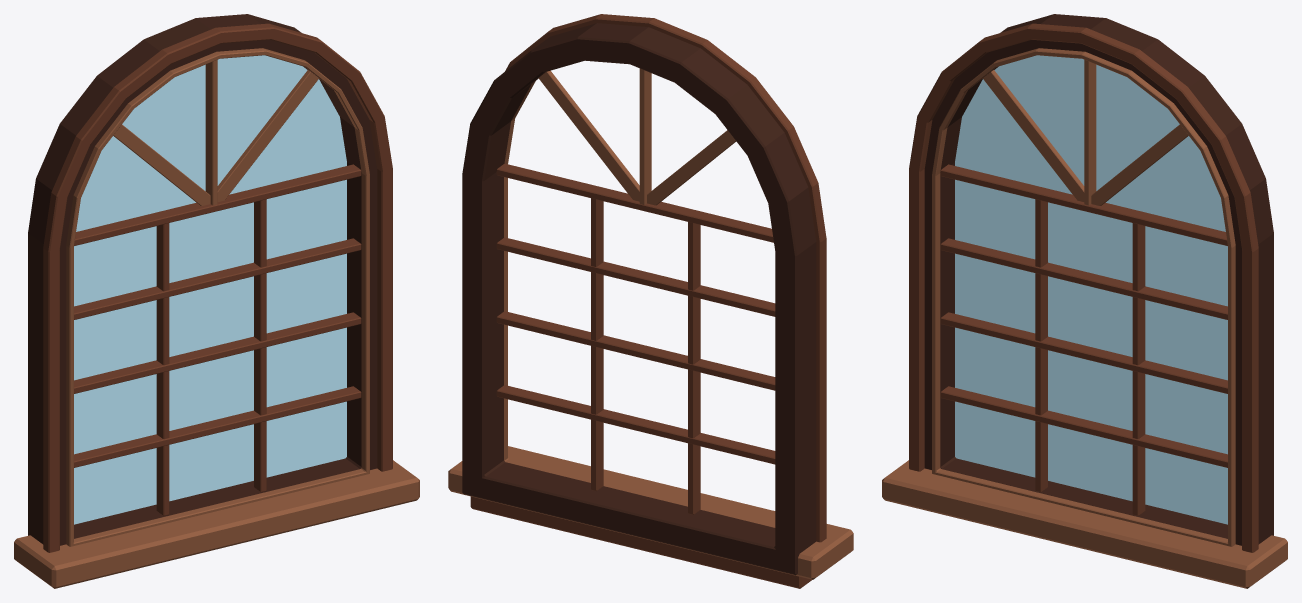
File: window_09.glb
3 views of the same model, side by side, from view 1: azimuth 30°, elevation 25°; view 2: azimuth 150°, elevation 25°; view 3: azimuth 330°, elevation 25° (orthographic).
Parts seen in each view (by area): view 1: Glass, Deep_frame, Raised_moulding, Sill, Inner_bead, Transom_3, Transom_1, Transom_2, Transom_4, Mullion_1, Mullion_2, Fan_ray_1 (+2 smaller); view 2: Deep_frame, Raised_moulding, Sill, Sill_apron, Transom_3, Transom_2, Transom_1, Transom_4, Mullion_1, Mullion_2, Inner_bead, Fan_ray_1 (+2 smaller); view 3: Glass, Deep_frame, Raised_moulding, Sill, Inner_bead, Transom_3, Transom_1, Transom_2, Transom_4, Mullion_2, Mullion_1, Fan_ray_3 (+2 smaller).
Boxes of the visible parts, <box> form: Glass: <box>74,55,346,524</box>; Deep_frame: <box>28,14,377,545</box>; Raised_moulding: <box>43,23,392,552</box>; Sill: <box>14,460,419,588</box>; Inner_bead: <box>66,48,369,546</box>; Transom_3: <box>74,238,361,319</box>; Transom_1: <box>74,386,361,467</box>; Transom_2: <box>74,312,361,393</box>; Transom_4: <box>74,164,361,245</box>; Mullion_1: <box>156,223,169,515</box>; Mullion_2: <box>254,199,266,492</box>; Fan_ray_1: <box>210,70,318,203</box>; Deep_frame: <box>462,23,816,575</box>; Raised_moulding: <box>505,14,826,542</box>; Sill: <box>448,446,853,579</box>; Sill_apron: <box>470,496,811,588</box>; Transom_3: <box>496,237,775,316</box>; Transom_2: <box>496,311,775,390</box>; Transom_1: <box>496,385,775,464</box>; Transom_4: <box>496,163,773,242</box>; Mullion_1: <box>688,222,700,514</box>; Mullion_2: <box>591,198,603,491</box>; Inner_bead: <box>504,78,775,527</box>; Fan_ray_1: <box>538,70,639,201</box>; Glass: <box>955,55,1227,524</box>; Deep_frame: <box>924,14,1273,545</box>; Raised_moulding: <box>909,23,1258,552</box>; Sill: <box>882,460,1287,588</box>; Inner_bead: <box>932,48,1235,546</box>; Transom_3: <box>940,238,1227,319</box>; Transom_1: <box>940,386,1227,467</box>; Transom_2: <box>940,312,1227,393</box>; Transom_4: <box>940,164,1227,245</box>; Mullion_2: <box>1132,223,1145,515</box>; Mullion_1: <box>1035,199,1047,492</box>; Fan_ray_3: <box>983,70,1084,201</box>.
Size of the model in its own units: 2.02 by 2.72 by 0.405.
